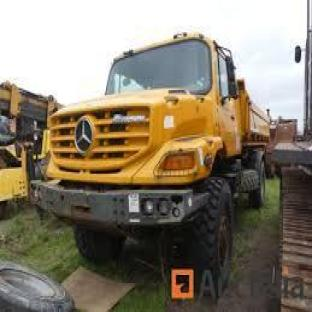Vehicle: (32, 35, 272, 268)
